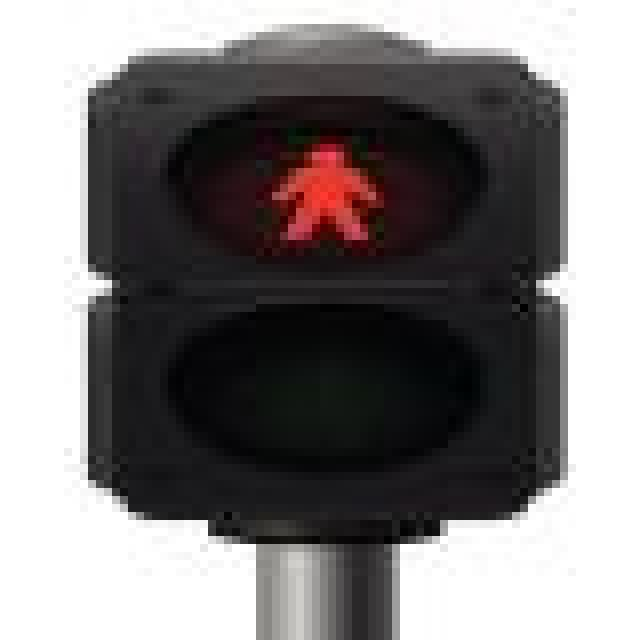redlight: (48, 64, 568, 544)
